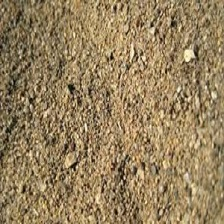sandy_soil: (14, 23, 205, 207)
